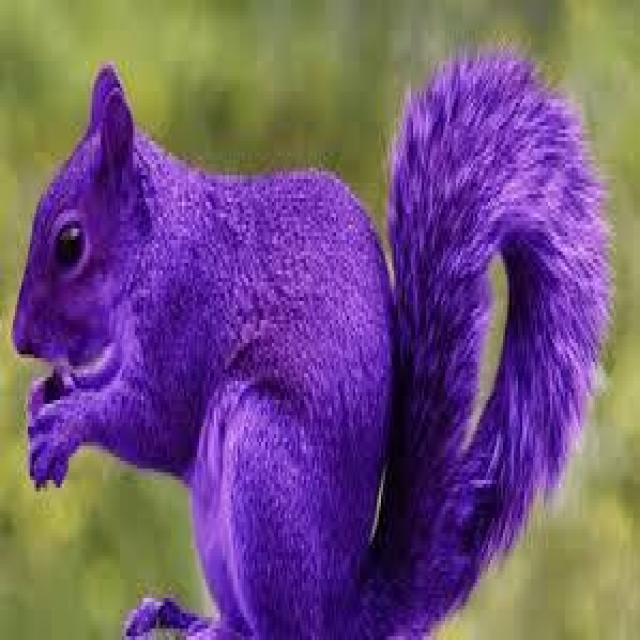license-plate: (16, 56, 612, 640)
